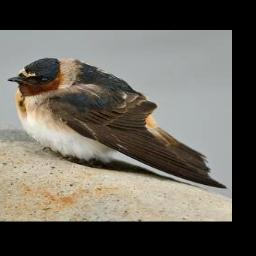Swallow: (6, 57, 228, 189)
